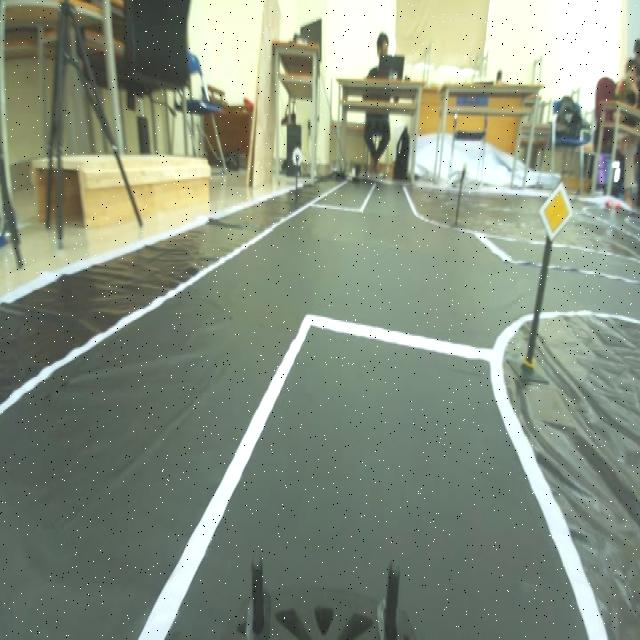priority: (536, 174, 575, 246)
